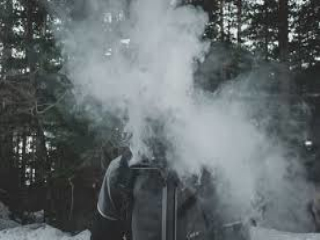smoke: (74, 12, 282, 183)
